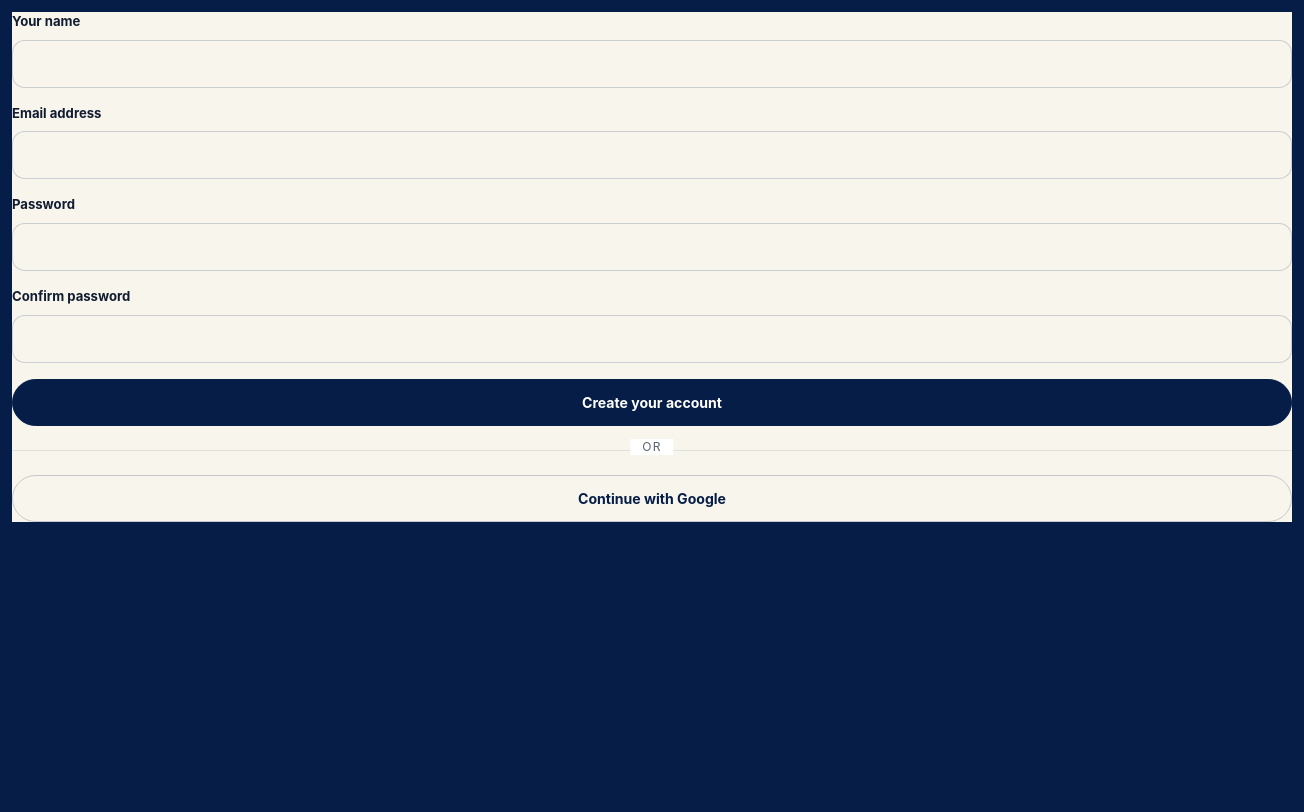
it: SignInPanel › submits customer registration to the BFF without exposing tokens
The image size is (1304, 812).
Type "Test Customer" into the field labelled "Your name" at (652, 64), box [12,40,1292,88]
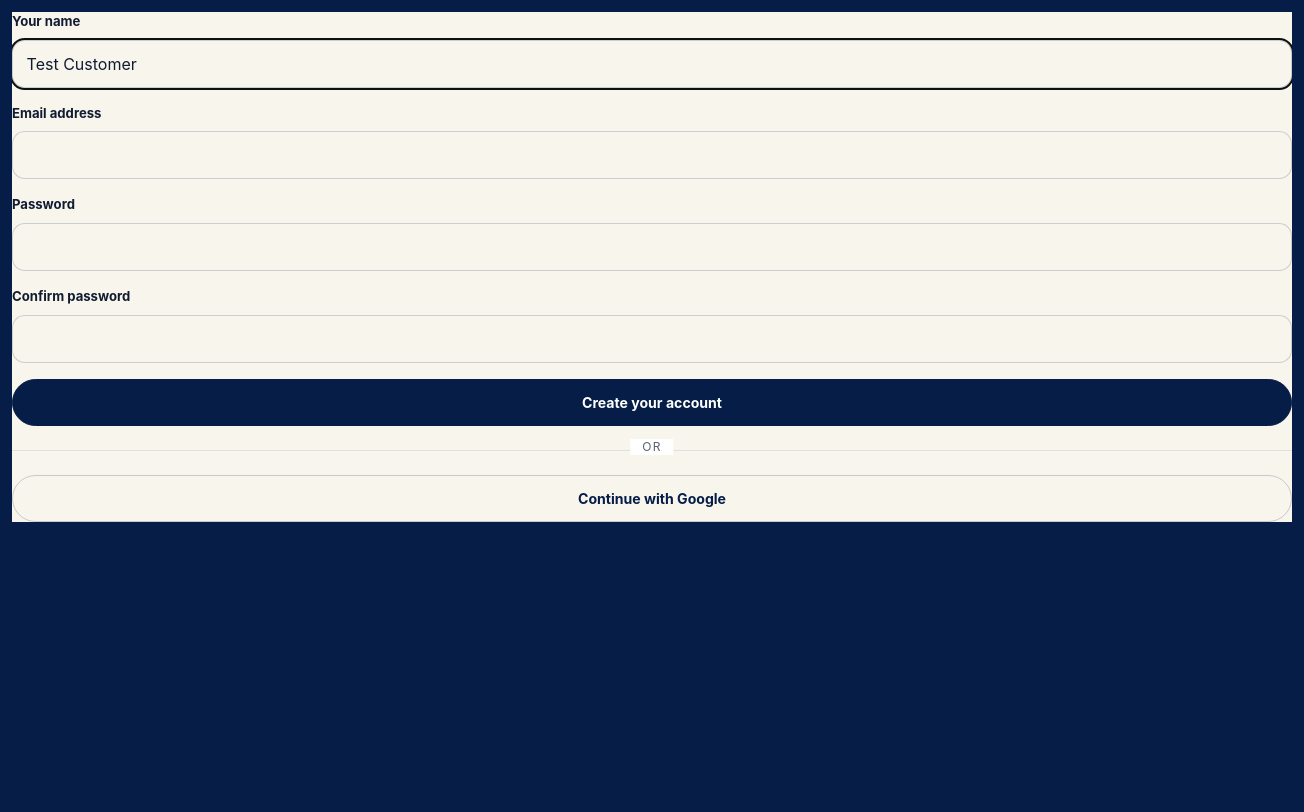
Type "customer@example.test" into the field labelled "Email address" at (652, 155), box [12,131,1292,179]
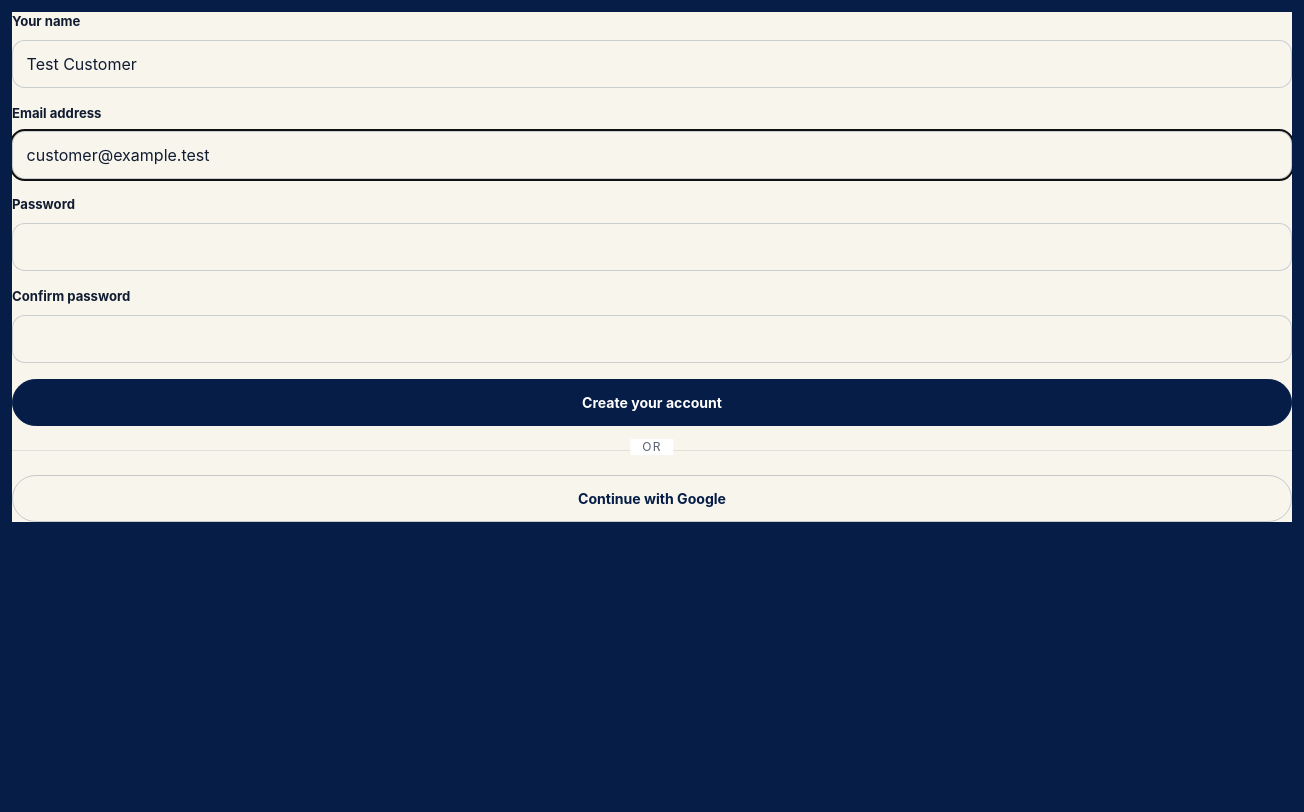
Type "password123" into the password field labelled "Password" at (652, 247), box [12,223,1292,271]
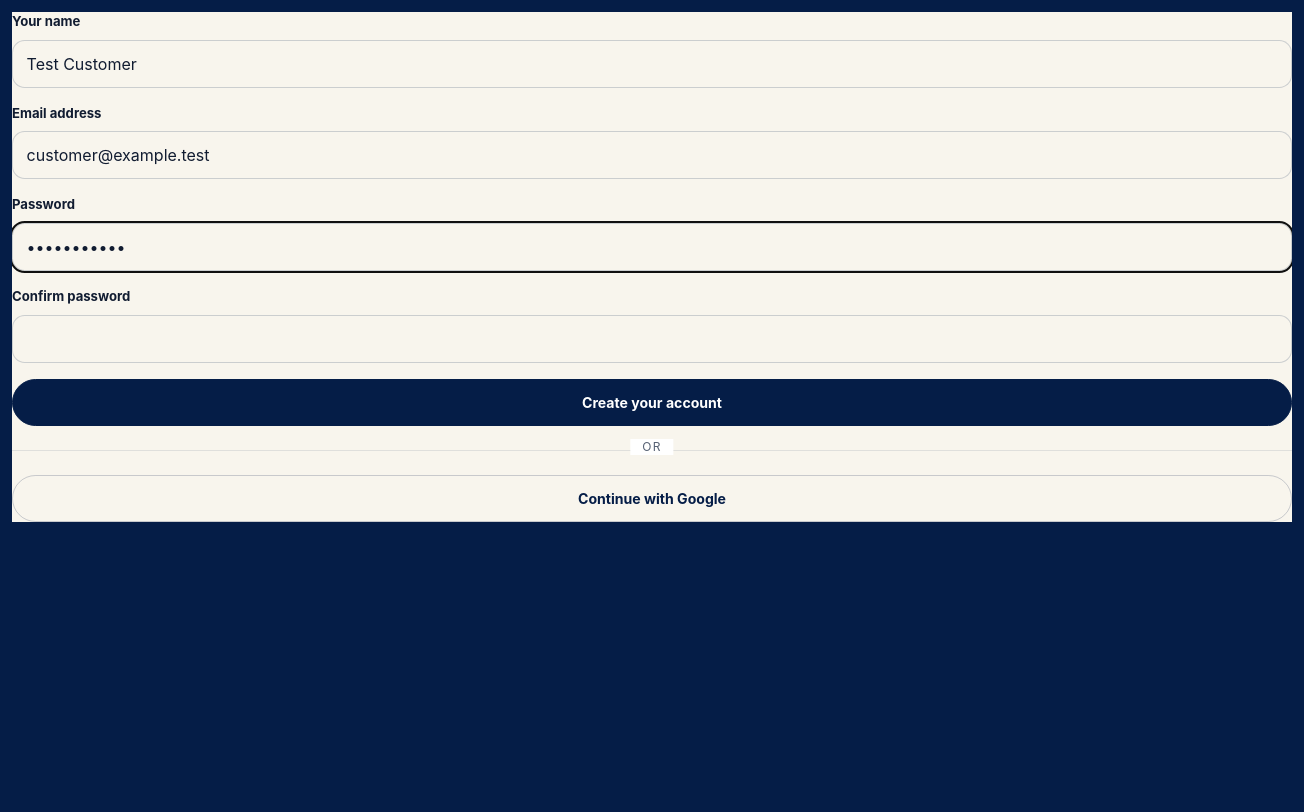
Type "password123" into the password field labelled "Confirm password" at (652, 339), box [12,315,1292,363]
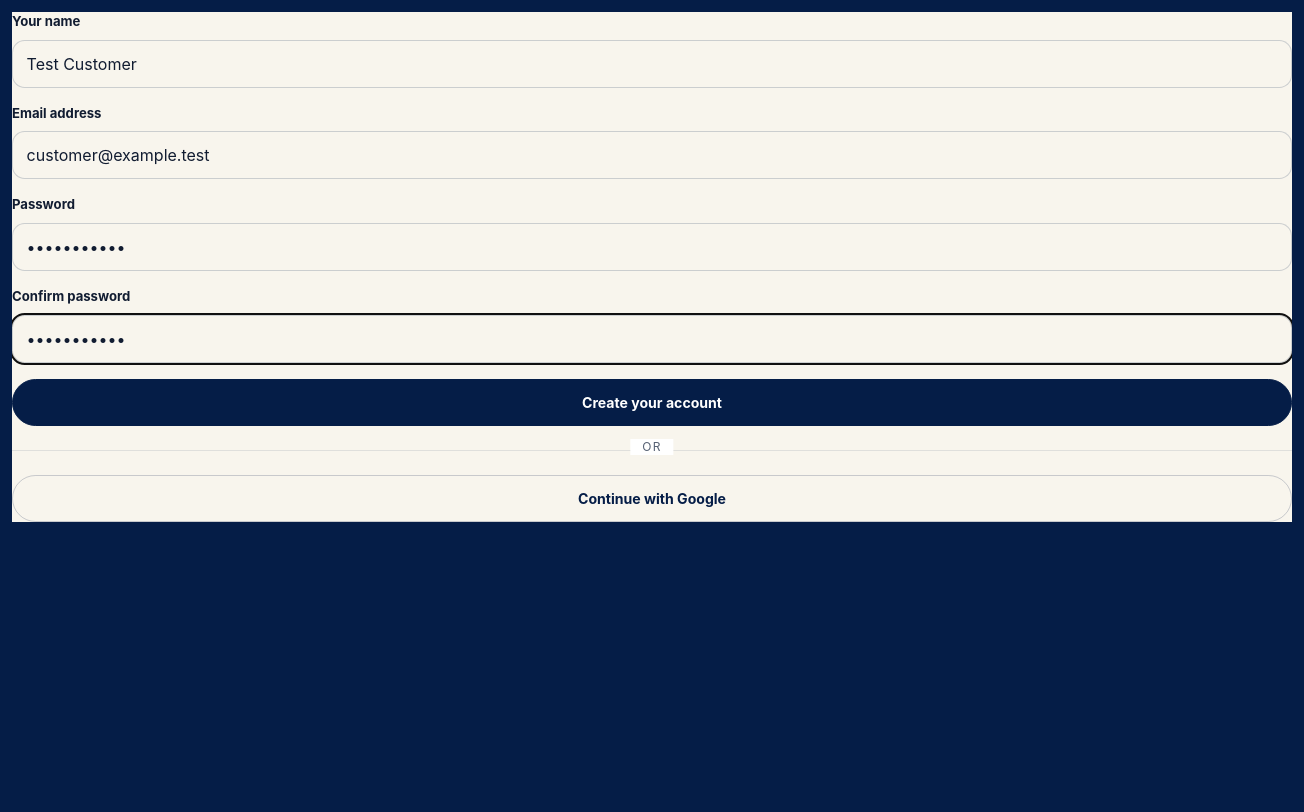
Click the button "Create your account" at (652, 402), box [12,379,1292,426]
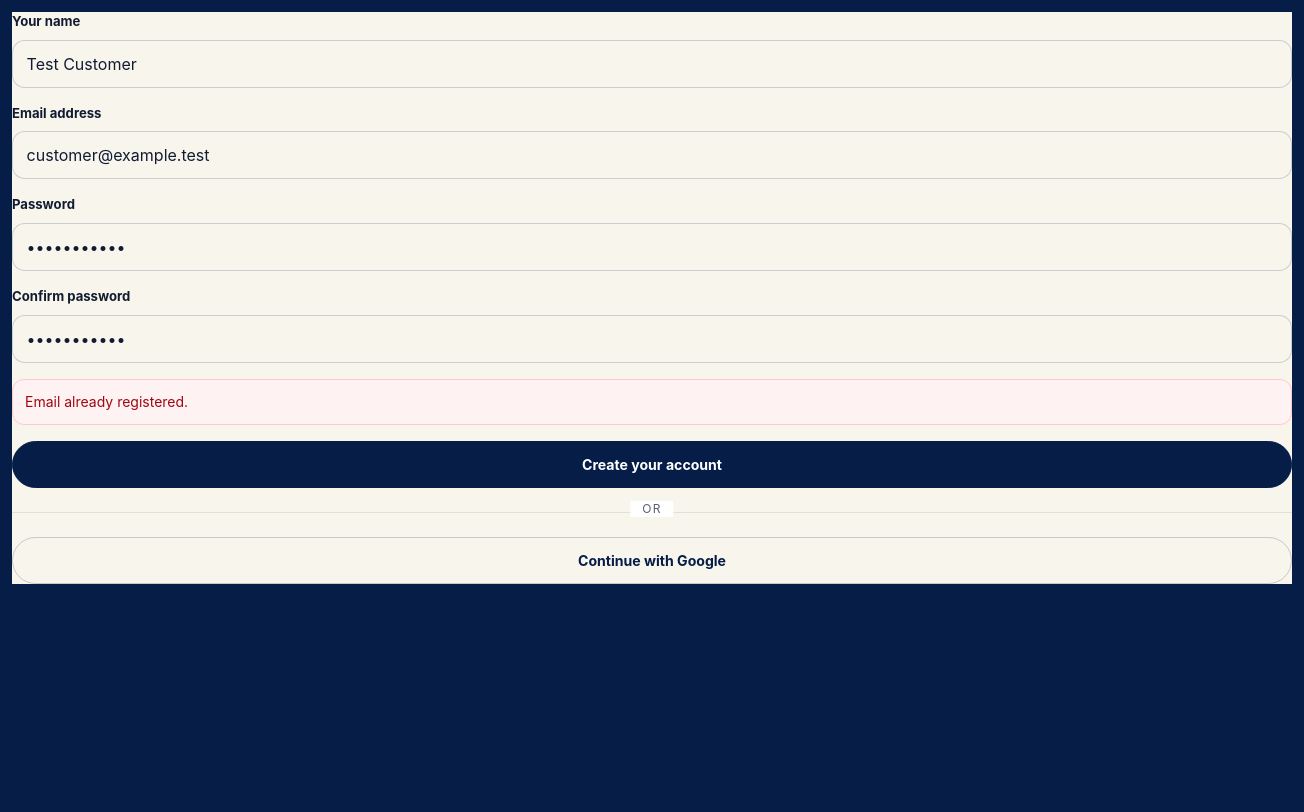
Check: the message reads "Email already registered.", box [25,393,188,410]
